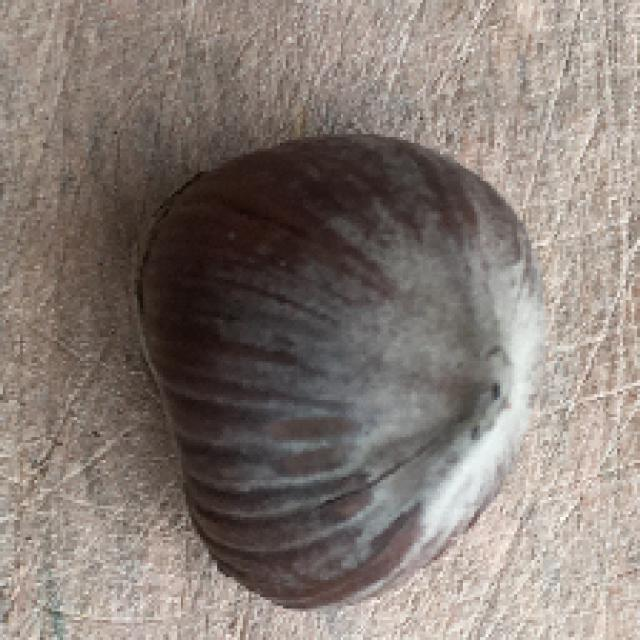damagedHazelnut: (121, 130, 561, 608)
